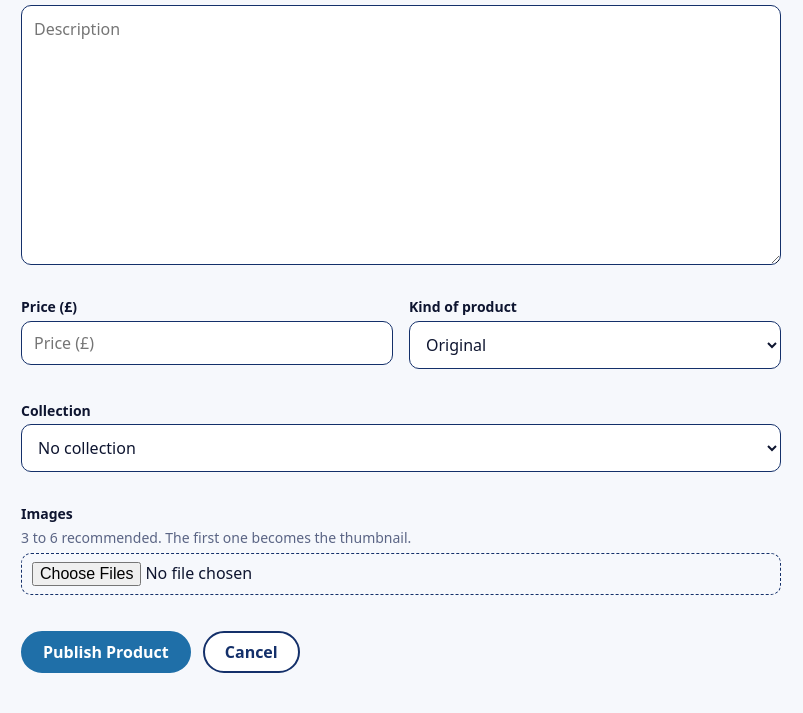
Scenario: the New product form › does not pull you out of a field while you type to fix it: after a failed send, a long title keeps every letter and the focus stays in the field
(page scrolled)
Click the button "Publish Product" at x=106, y=652, box [21, 631, 191, 673]
(page scrolled)
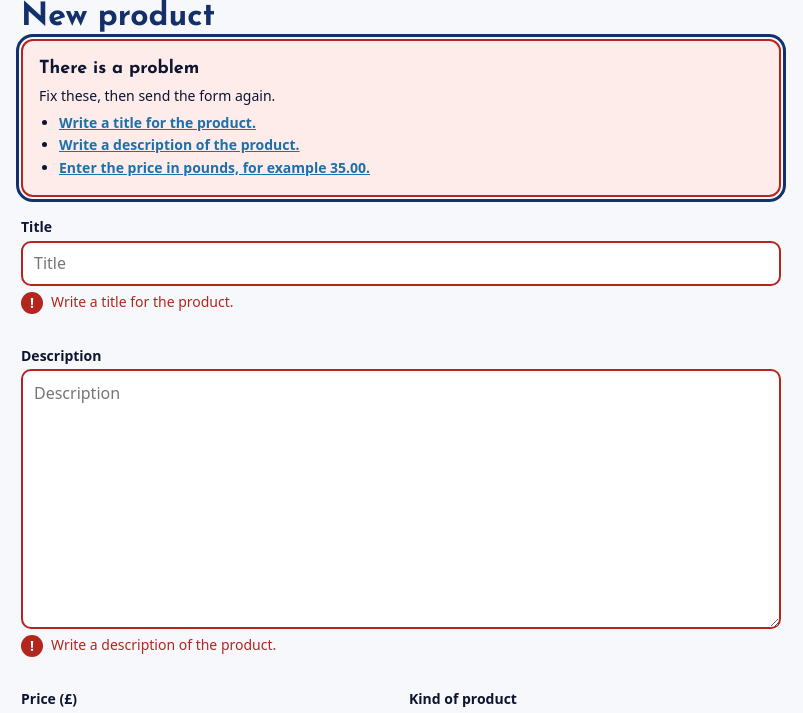
Click the field labelled "Title" at x=401, y=263, box [21, 241, 781, 286]
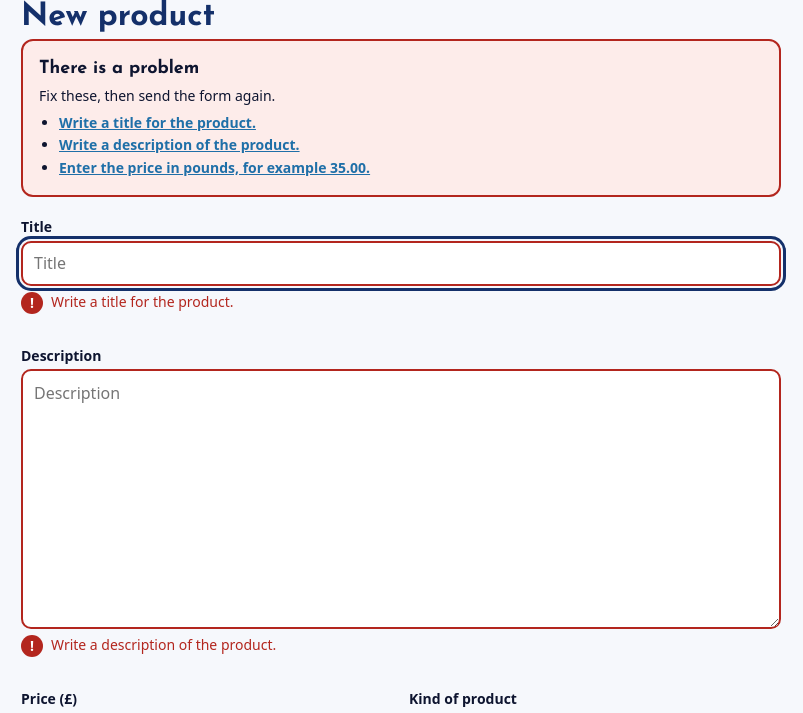
Type keys "The Moon Garden, framed"
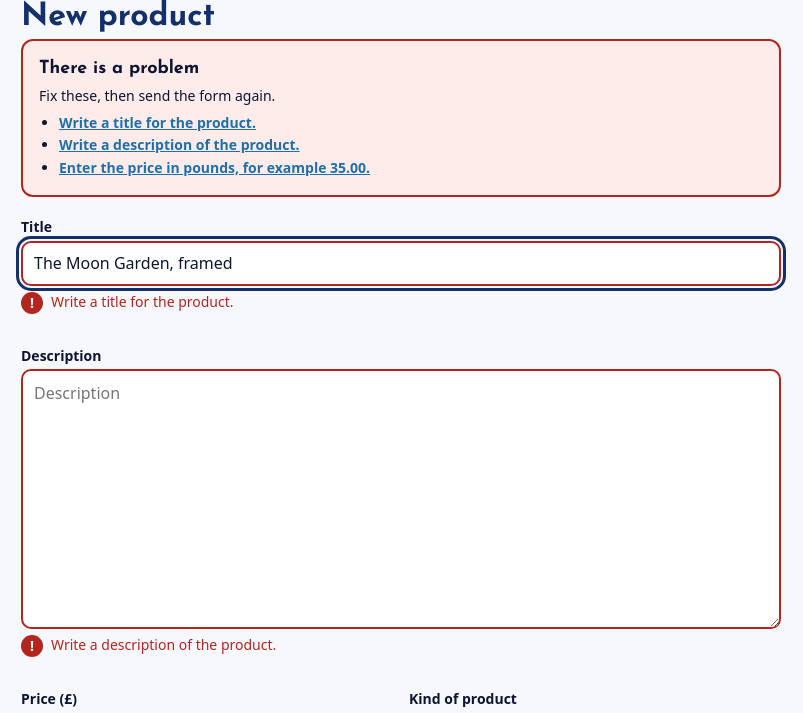
Result: the field labelled "Title" holds "The Moon Garden, framed" at [21, 241, 781, 286]
